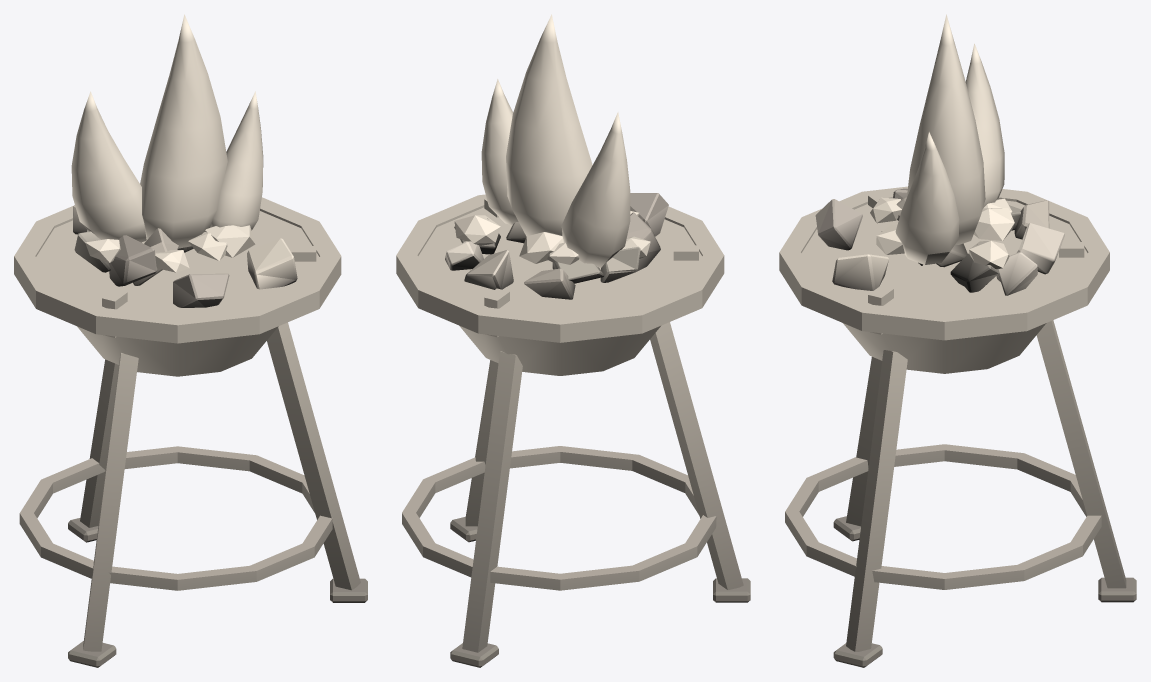
Rendered from SM_VKI_Prop_Brazier.fbx.
3 views of the same model, side by side, from view 1: azimuth 30°, elevation 25°; view 2: azimuth 150°, elevation 25°; view 3: azimuth 270°, elevation 25° (orthographic).
Visible parts, largest first — view 1: SM_VKI_Prop_Brazier.001; view 2: SM_VKI_Prop_Brazier.001; view 3: SM_VKI_Prop_Brazier.001.
Boxes of the visible parts, x1=… form: SM_VKI_Prop_Brazier.001: x1=14, y1=14, x2=367, y2=667; SM_VKI_Prop_Brazier.001: x1=396, y1=14, x2=750, y2=667; SM_VKI_Prop_Brazier.001: x1=779, y1=14, x2=1136, y2=667.
Size of the model in its own units: 0.6852 by 1.27 by 0.7024.
